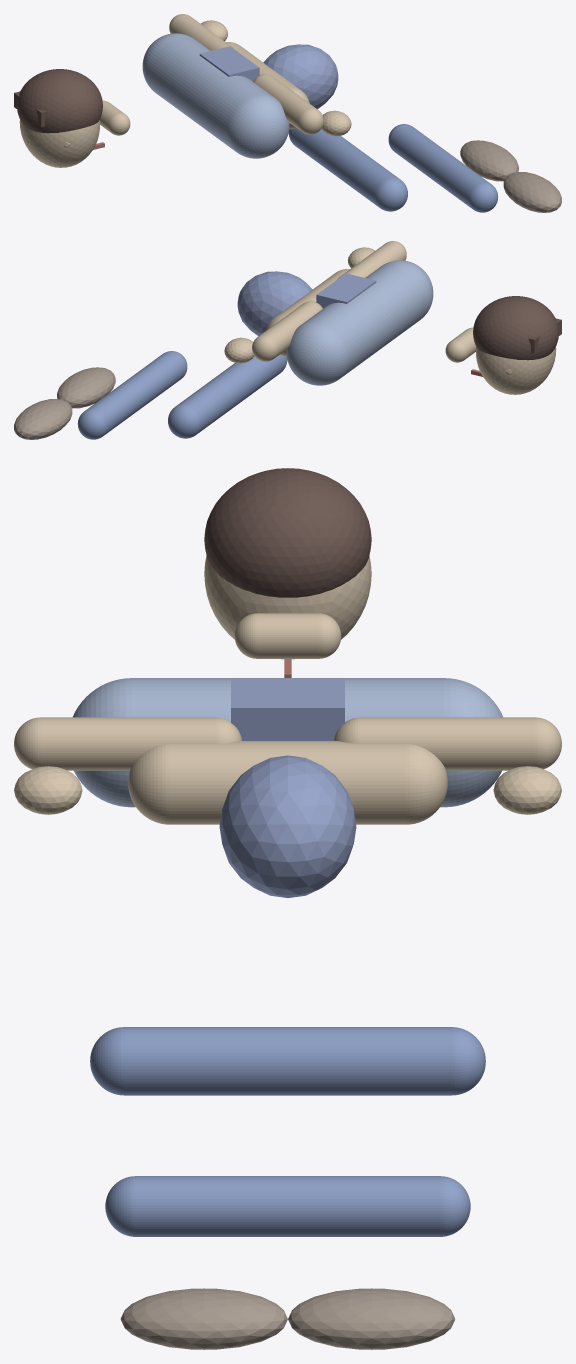
The model's file is human-female.glb.
3 views of the same model, one above another, from view 1: azimuth 30°, elevation 25°; view 2: azimuth 150°, elevation 25°; view 3: azimuth 270°, elevation 25° (orthographic). The views are drawn at different scales.
Visible parts, largest first — view 1: geometry_1, geometry_5, geometry_17, geometry_2, geometry_19, geometry_4, geometry_21, geometry_20, geometry_13, geometry_22, geometry_18, geometry_23 (+5 smaller); view 2: geometry_1, geometry_5, geometry_18, geometry_2, geometry_4, geometry_20, geometry_19, geometry_22, geometry_14, geometry_21, geometry_17, geometry_23 (+5 smaller); view 3: geometry_0, geometry_5, geometry_17, geometry_2, geometry_1, geometry_19, geometry_18, geometry_20, geometry_13, geometry_14, geometry_21, geometry_22 (+5 smaller).
Boxes of the visible parts, x1,y1,x2,y2 form: geometry_1: (142, 33, 289, 158); geometry_5: (17, 69, 102, 133); geometry_17: (318, 136, 407, 211); geometry_2: (263, 44, 338, 109); geometry_19: (418, 145, 498, 212); geometry_4: (19, 120, 99, 167); geometry_21: (503, 172, 561, 212); geometry_20: (388, 124, 459, 185); geometry_13: (253, 74, 323, 134); geometry_22: (460, 140, 518, 181); geometry_18: (288, 128, 369, 187); geometry_23: (199, 46, 259, 81); geometry_1: (286, 260, 433, 385); geometry_5: (473, 296, 558, 360); geometry_18: (168, 363, 257, 438); geometry_2: (237, 271, 312, 336); geometry_4: (476, 347, 556, 394); geometry_20: (77, 372, 157, 439); geometry_19: (115, 351, 187, 413); geometry_22: (14, 399, 72, 439); geometry_14: (252, 301, 322, 361); geometry_21: (57, 367, 115, 408); geometry_17: (206, 355, 287, 411); geometry_23: (316, 273, 376, 308); geometry_0: (128, 741, 447, 824); geometry_5: (204, 468, 371, 597); geometry_17: (90, 1027, 344, 1095); geometry_2: (219, 755, 356, 897); geometry_1: (73, 678, 502, 807); geometry_19: (105, 1176, 333, 1236); geometry_18: (231, 1027, 485, 1095); geometry_20: (242, 1176, 470, 1236); geometry_13: (14, 717, 241, 770); geometry_14: (334, 717, 561, 770); geometry_21: (120, 1288, 287, 1349); geometry_22: (288, 1288, 455, 1349).
Bounding box in the file's own units: 3 × 1.27 × 1.44.
